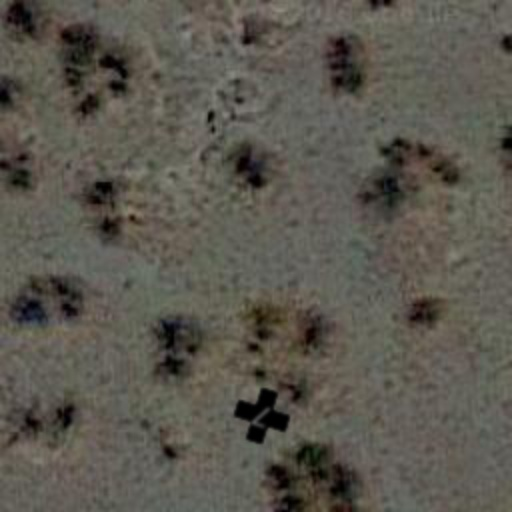cross: (226, 380, 298, 452)
